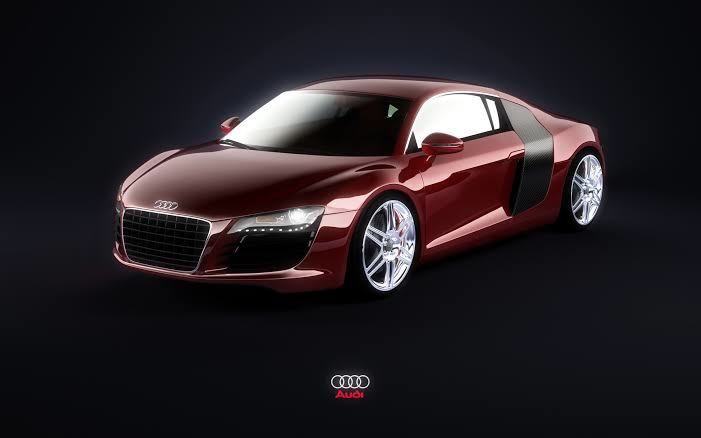audi: (94, 53, 618, 298)
